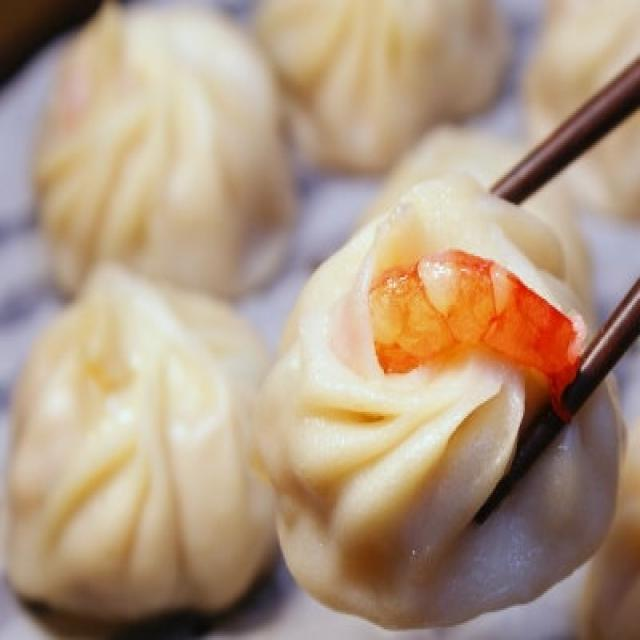带馅早点: (26, 32, 604, 614)
